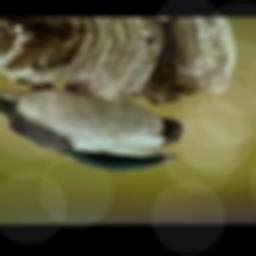Swallow: (0, 83, 182, 171)
